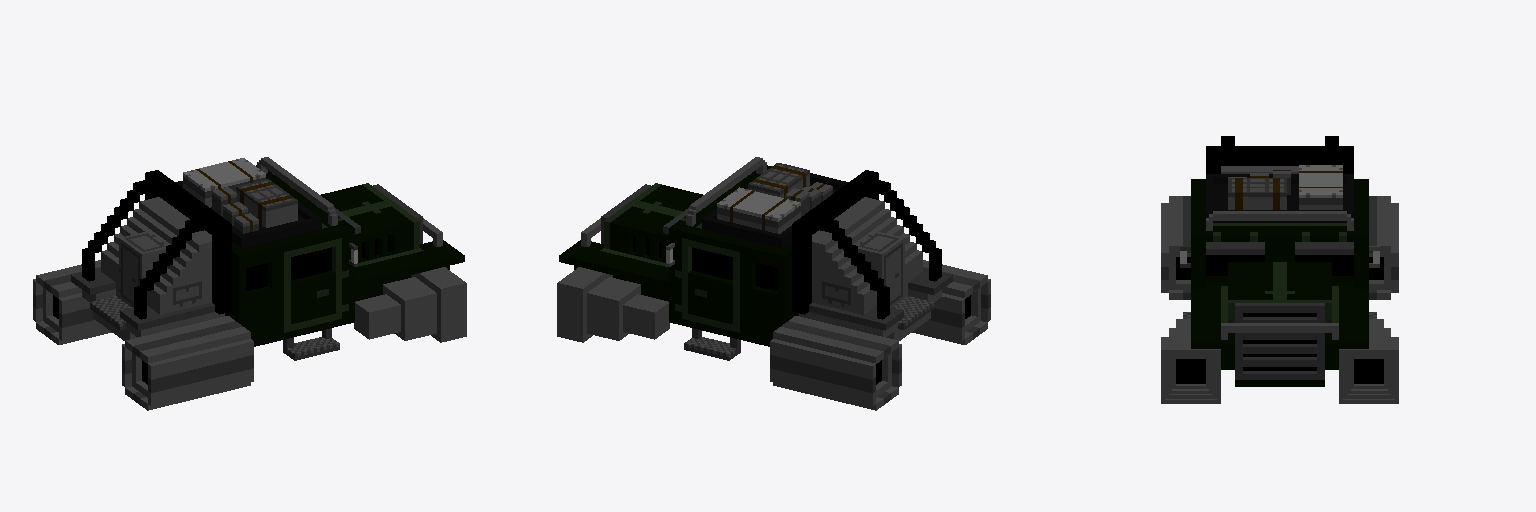
The picture shows the model from 3 angles: view 1: azimuth 30°, elevation 25°; view 2: azimuth 150°, elevation 25°; view 3: azimuth 270°, elevation 25°; orthographic projection.
Parts seen in each view (by area): view 1: object 1; view 2: object 1; view 3: object 1.
Part boxes in pixels (x1,y1,x2,y2): object 1: (33, 157, 466, 410); object 1: (557, 157, 990, 410); object 1: (1161, 136, 1398, 403).
Bounding box in the file's own units: 10.2 × 4.4 × 6.4.
Materials: 1 (1 with a texture image).